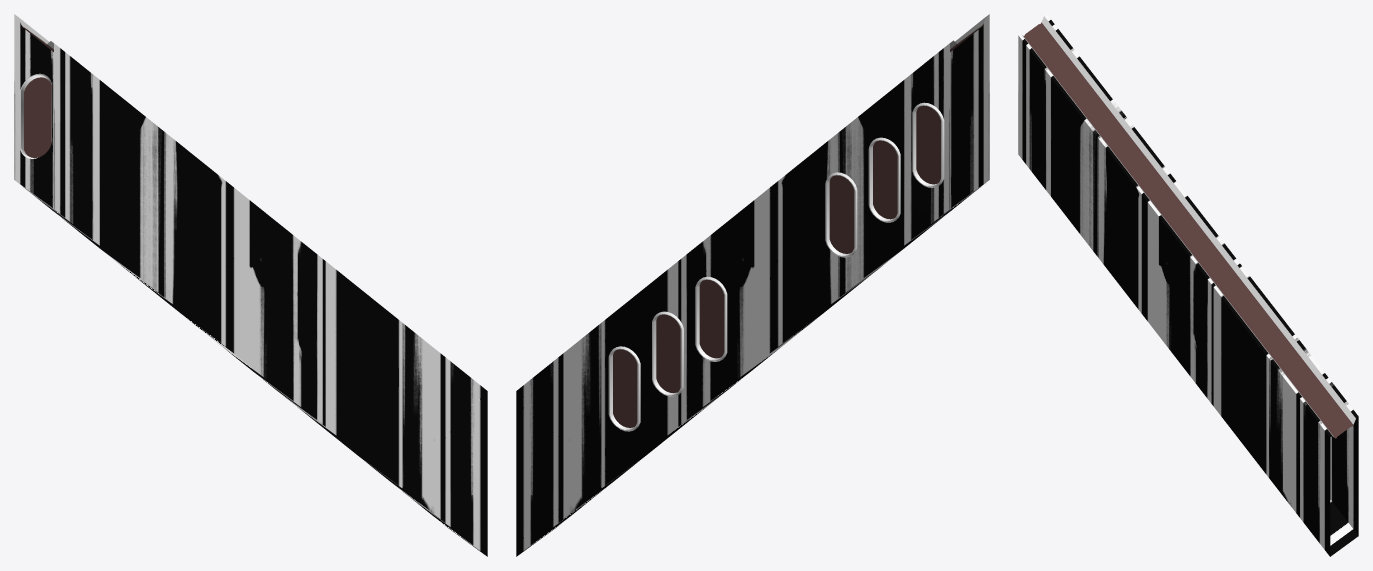
Rendered from SM_ElevatorRail.fbx.
3 views of the same model, side by side, from view 1: azimuth 30°, elevation 25°; view 2: azimuth 150°, elevation 25°; view 3: azimuth 330°, elevation 25° (orthographic). The views are drawn at different scales.
Visible parts, largest first — view 1: ough; view 2: ough; view 3: ough.
Boxes of the visible parts, x1,y1,x2,y2 form: ough: (14,14,487,556); ough: (516,14,989,556); ough: (1018,14,1358,556).
Bounding box in the file's own units: 100 × 137 × 16.33.
